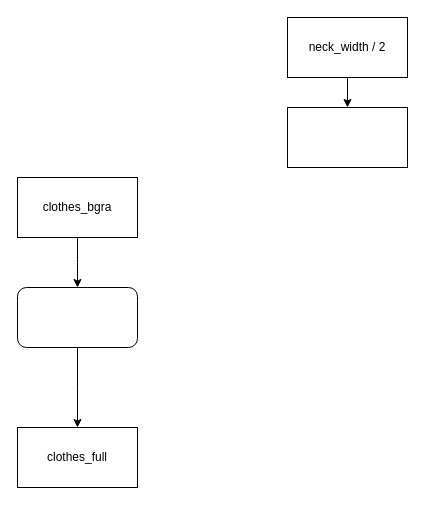
The diagram is 425 pixels wide and 505 high, and some of its shapes have lost their labels. The centre of each missing label's shape, as x and y in pixels:
collar_offset: (347,137)
warp: (77,317)
